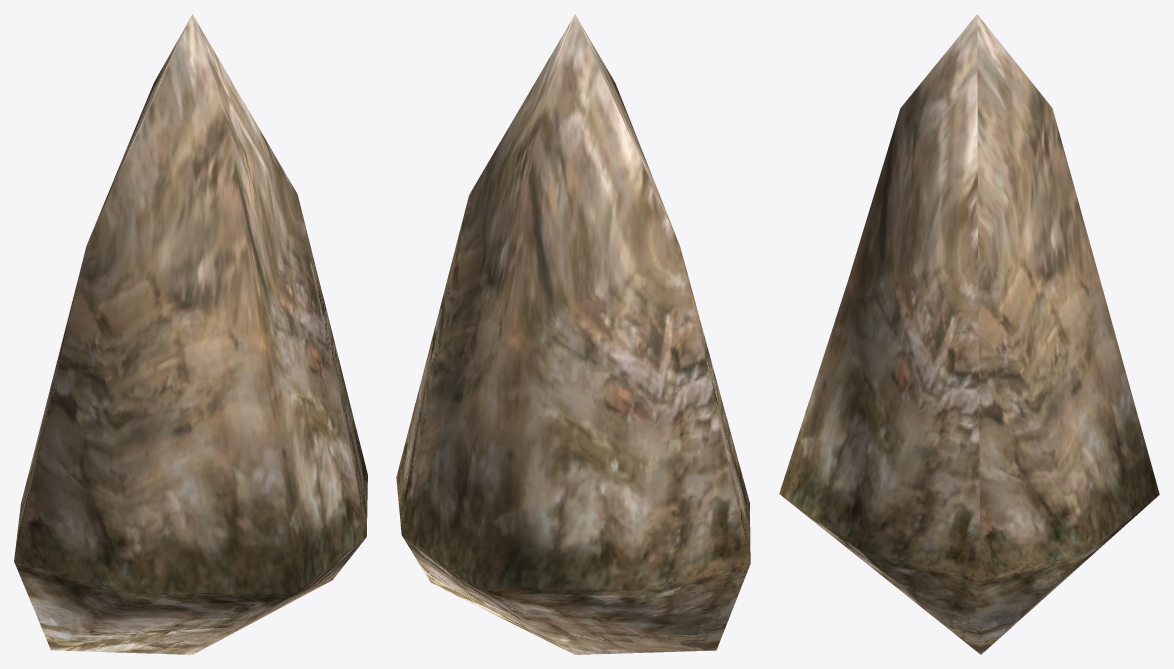
The model's file is thm_all_cave_stalagmite_c1_l2.fbx.
3 views of the same model, side by side, from view 1: azimuth 30°, elevation 25°; view 2: azimuth 150°, elevation 25°; view 3: azimuth 270°, elevation 25° (orthographic). The views are drawn at different scales.
Parts seen in each view (by area): view 1: mesh_node; view 2: mesh_node; view 3: mesh_node.
Part boxes in pixels (x1,y1,x2,y2): mesh_node: (14,14,367,654); mesh_node: (396,14,750,654); mesh_node: (779,14,1159,654).
Bounding box in the file's own units: 4.04 × 6.98 × 3.94.
